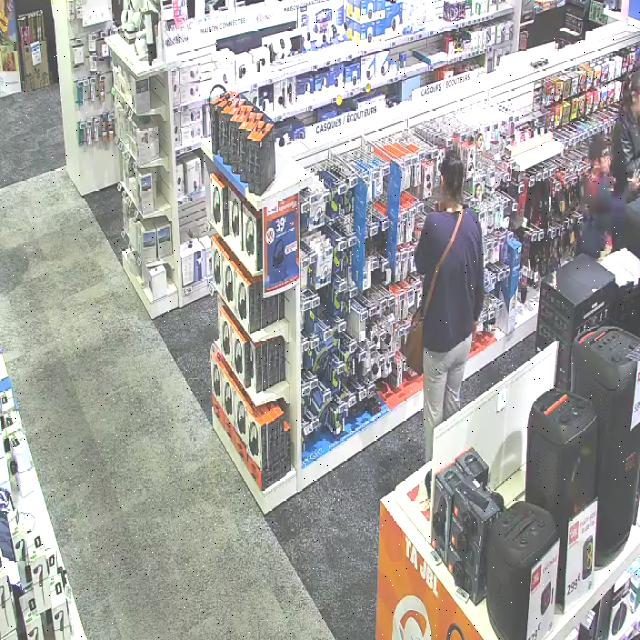bags: (401, 213, 461, 374)
hands: (626, 169, 639, 191)
person: (415, 150, 484, 461), (576, 134, 639, 258)
